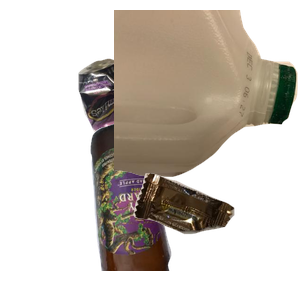glass: (88, 120, 252, 300)
metal: (75, 56, 198, 185)
plastic: (114, 10, 300, 179)
trash: (131, 171, 300, 300)
